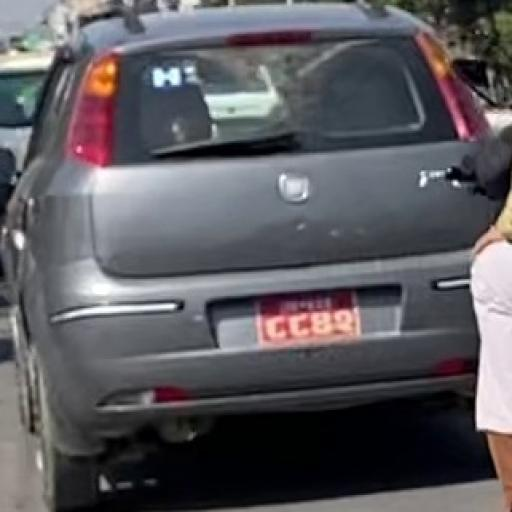license_plate: (250, 285, 367, 349)
